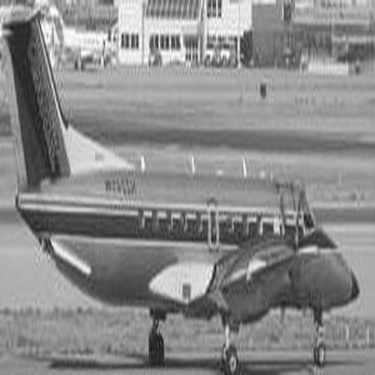airplane: (1, 2, 370, 371), (8, 1, 120, 75)
